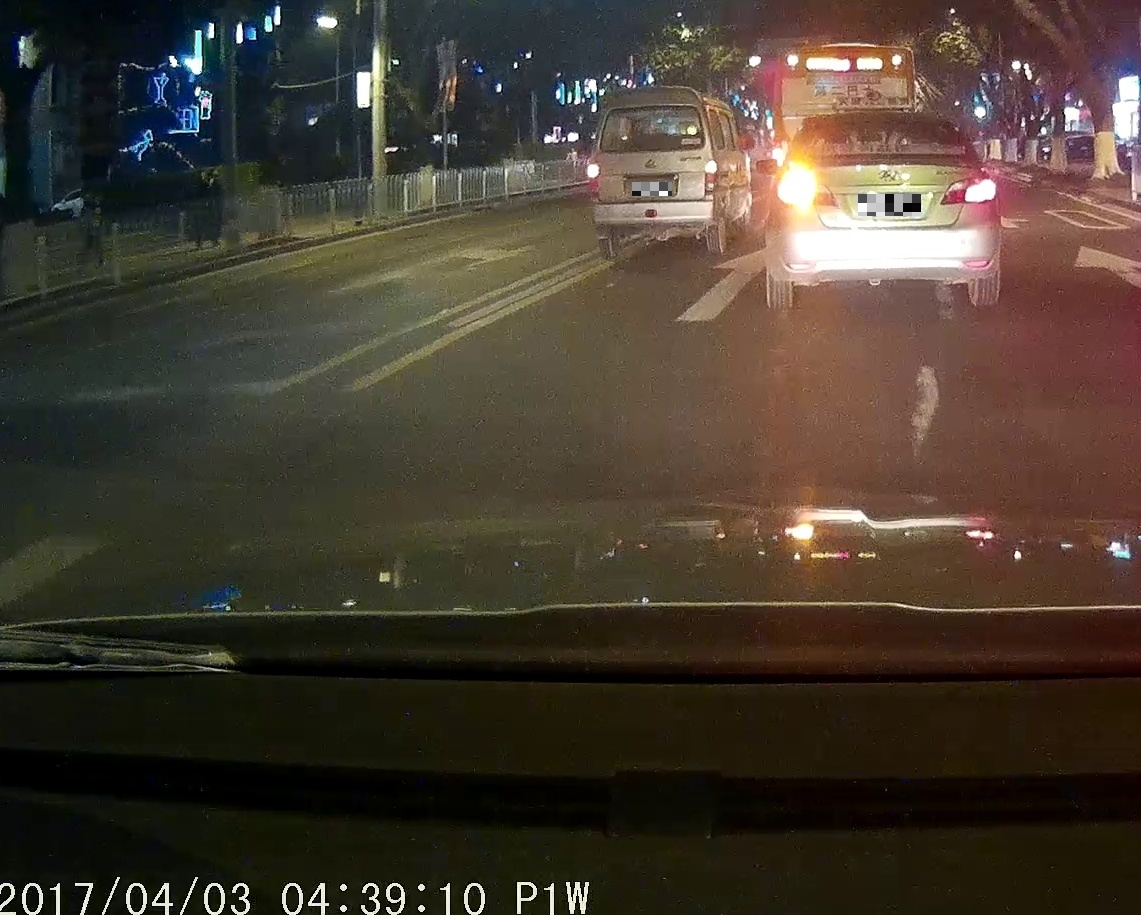L_light: (776, 166, 839, 207), (587, 164, 601, 193)
R_light: (940, 175, 998, 205), (704, 159, 717, 192)
T_light: (875, 112, 913, 119), (638, 147, 660, 151)
night-left: (767, 111, 1000, 308)
night-no: (587, 86, 718, 258)
plate_1: (632, 182, 672, 196)
plate_2: (858, 194, 921, 216)
